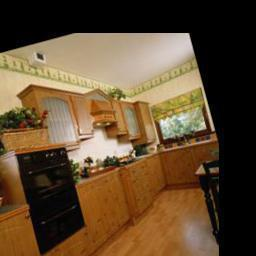Electrodomestico: (14, 137, 90, 255)
Matera: (0, 146, 11, 220)
